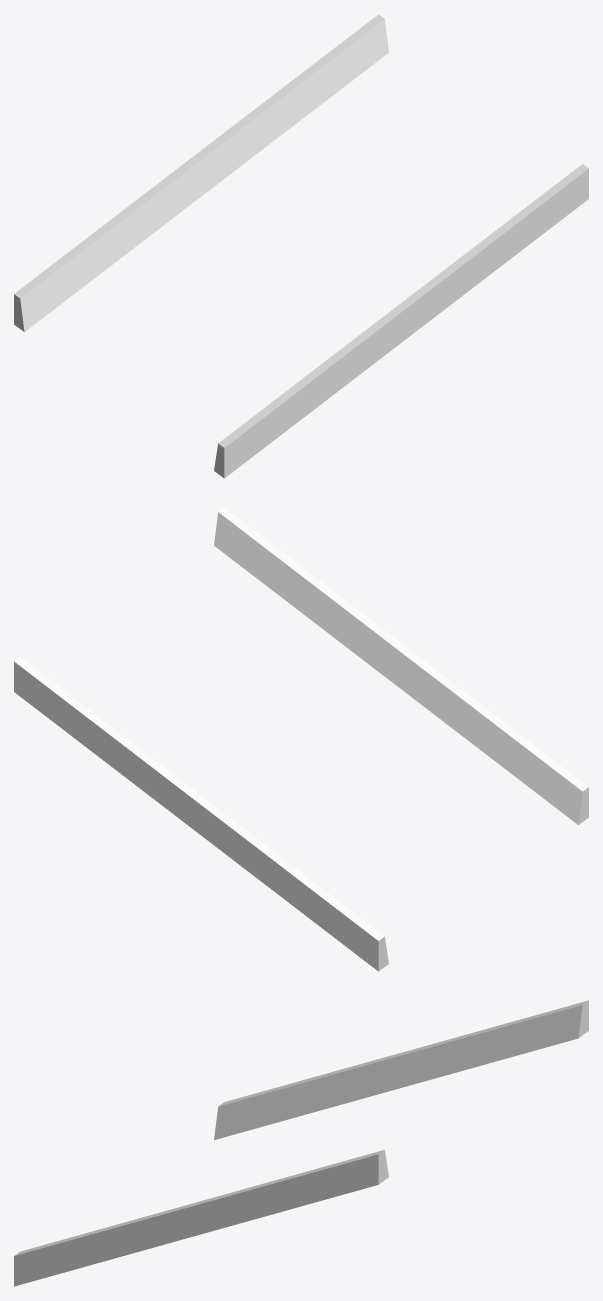
Rendered from kenney-city-roads-road-slant-high-barrier.glb.
The picture shows the model from 3 angles, top to bottom: view 1: azimuth 30°, elevation 25°; view 2: azimuth 150°, elevation 25°; view 3: azimuth 330°, elevation 25°; orthographic projection.
Visible parts, largest first — view 1: road-slant-high-barrier; view 2: road-slant-high-barrier; view 3: road-slant-high-barrier.
Boxes of the visible parts, x1,y1,x2,y2 form: road-slant-high-barrier: [14, 14, 588, 478]; road-slant-high-barrier: [14, 507, 588, 971]; road-slant-high-barrier: [14, 1000, 588, 1286].
Bounding box in the file's own units: 1 × 0.58 × 1.
Materials: 1 (1 with a texture image).
